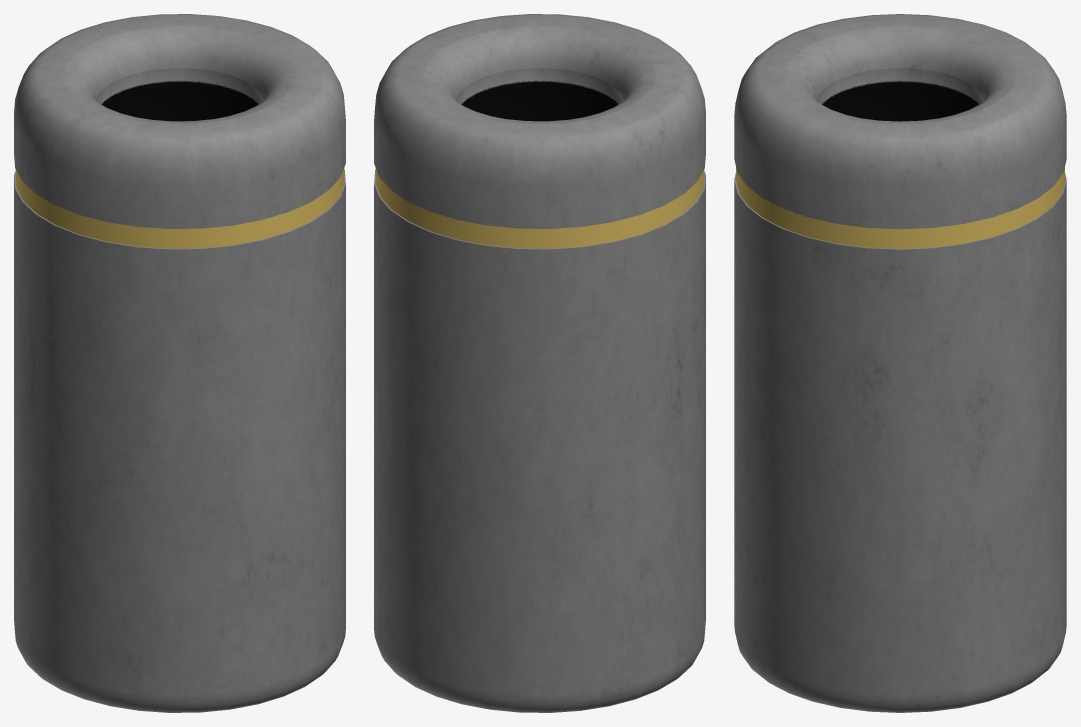
File: trashcan.fbx
The picture shows the model from 3 angles, left to right: view 1: azimuth 30°, elevation 25°; view 2: azimuth 150°, elevation 25°; view 3: azimuth 270°, elevation 25°; orthographic projection.
Visible parts, largest first — view 1: bake; view 2: bake; view 3: bake.
Boxes of the visible parts, bbox=[...] form: bake: bbox=[14, 14, 345, 712]; bake: bbox=[374, 14, 705, 712]; bake: bbox=[734, 14, 1066, 712].
Size of the model in its own units: 73.98 by 141 by 73.98.
1 material, 1 textured.
